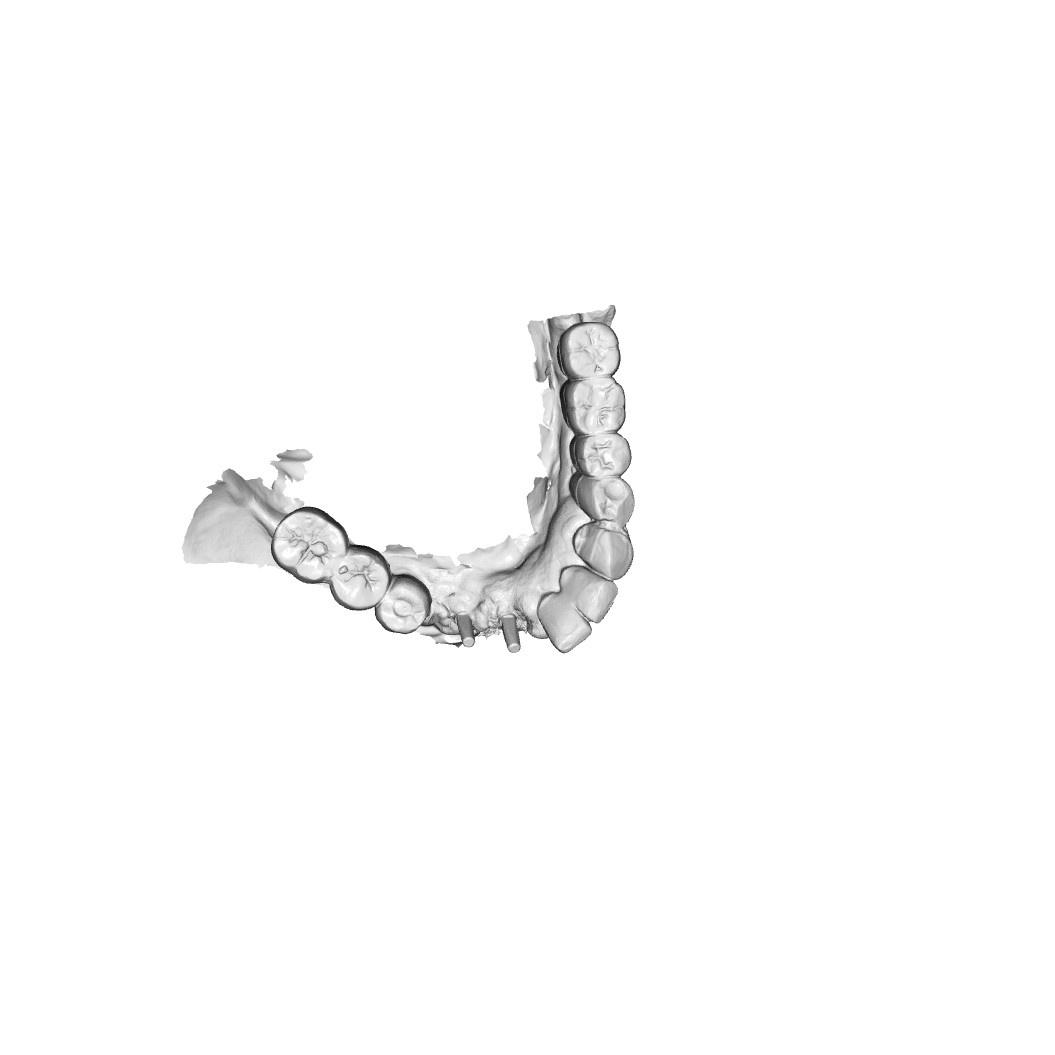abutment: (451, 604, 479, 655), (498, 608, 525, 659)
canine: (571, 519, 634, 583)
incisor: (560, 566, 620, 626), (536, 591, 592, 654)
molar: (270, 504, 350, 585), (554, 320, 624, 380), (329, 544, 390, 612), (560, 373, 626, 434)
premolar: (571, 473, 633, 530), (376, 574, 432, 637), (568, 429, 636, 479)
